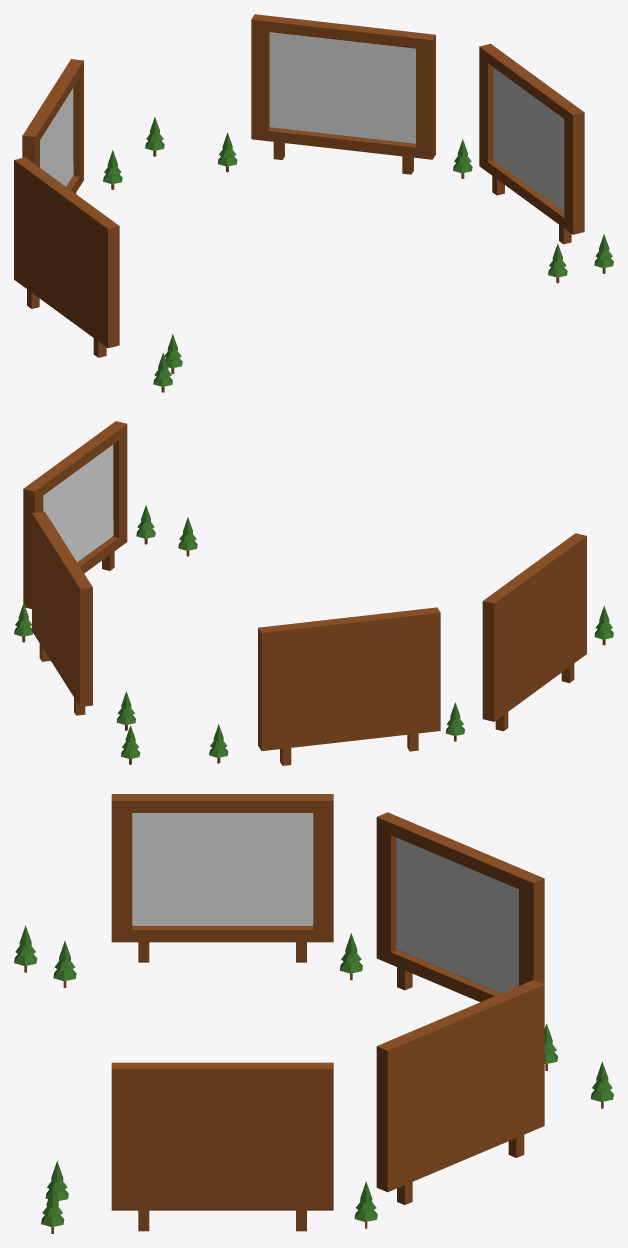
File: pizarras.glb
3 views of the same model, one above another, from view 1: azimuth 30°, elevation 25°; view 2: azimuth 150°, elevation 25°; view 3: azimuth 270°, elevation 25° (orthographic). The views are drawn at different scales.
Parts seen in each view (by area): view 1: pizarra 1, pizarra 3, pizarra 4, pizarra 2, Street.003 - applied transform.005; view 2: pizarra 2, pizarra 3, pizarra 4, pizarra 1, Street.003 - applied transform.005; view 3: pizarra 4, pizarra 3, pizarra 1, pizarra 2, Street.003 - applied transform.005.
Part boxes in pixels (bbox=[...]): pizarra 1: bbox=[251, 14, 435, 174]; pizarra 3: bbox=[14, 157, 119, 357]; pizarra 4: bbox=[479, 43, 584, 244]; pizarra 2: bbox=[22, 59, 83, 193]; Street.003 - applied transform.005: bbox=[103, 117, 613, 392]; pizarra 2: bbox=[258, 607, 440, 765]; pizarra 3: bbox=[482, 533, 586, 731]; pizarra 4: bbox=[23, 421, 127, 608]; pizarra 1: bbox=[32, 511, 92, 715]; Street.003 - applied transform.005: bbox=[14, 505, 613, 764]; pizarra 4: bbox=[111, 1062, 333, 1231]; pizarra 3: bbox=[111, 794, 333, 962]; pizarra 1: bbox=[376, 980, 544, 1204]; pizarra 2: bbox=[376, 812, 544, 1002]; Street.003 - applied transform.005: bbox=[14, 925, 613, 1233].
Bounding box in the file's own units: 82.77 × 23.26 × 75.64.
